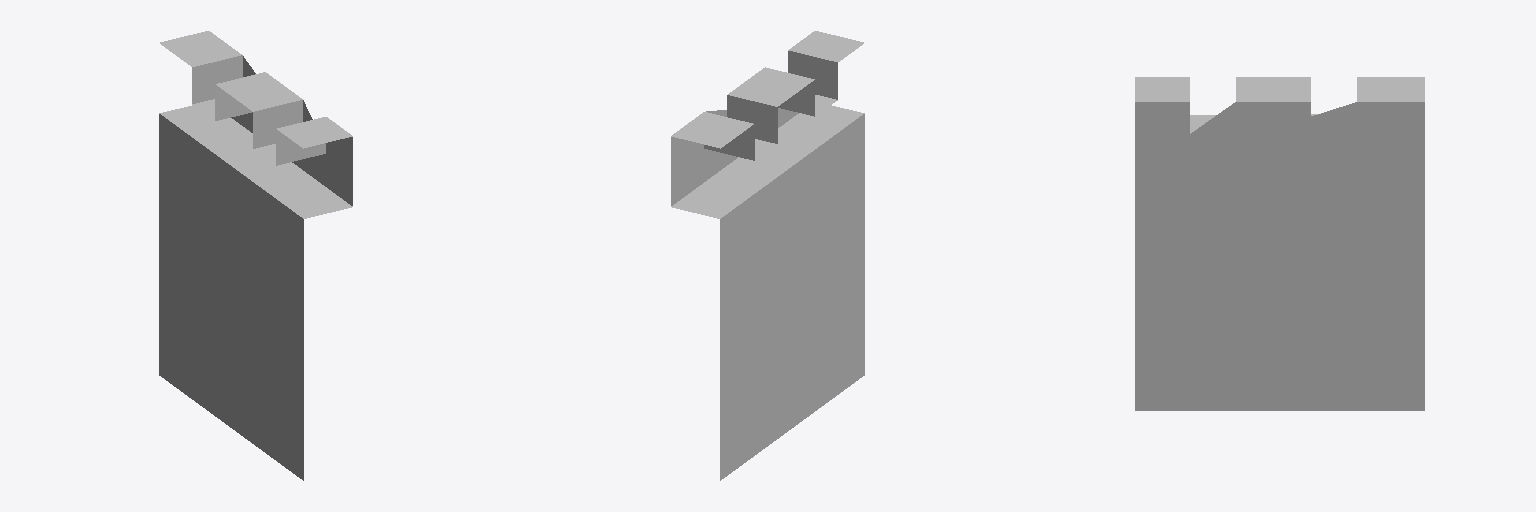
Rendered from wall_bulwark.obj.
3 renders of one model, left to right at view 1: azimuth 30°, elevation 25°; view 2: azimuth 150°, elevation 25°; view 3: azimuth 270°, elevation 25°, orthographic.
Parts seen in each view (by area): view 1: Cube.001; view 2: Cube.001; view 3: Cube.001.
Part boxes in pixels (x1,y1,x2,y2): Cube.001: (159, 31, 352, 480); Cube.001: (671, 31, 864, 480); Cube.001: (1135, 77, 1424, 410).
Size of the model in its own units: 0.2009 by 1.27 by 1.